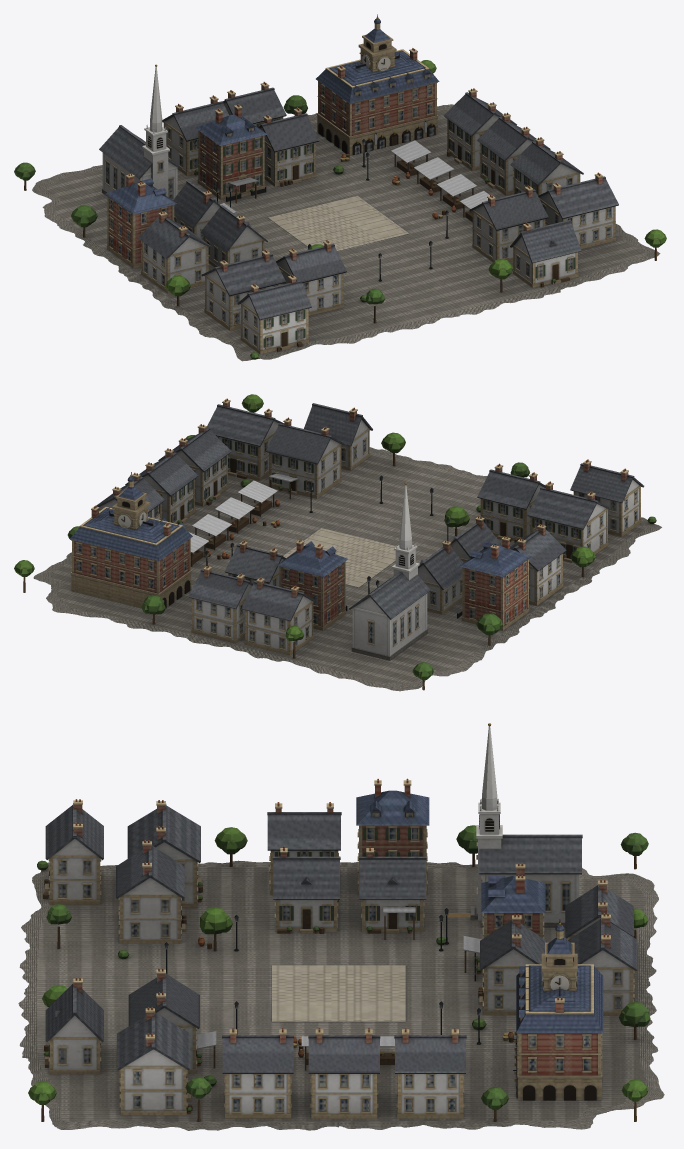
File: gunpowder-town-medium-a-colonies.glb
3 renders of one model, top to bottom at view 1: azimuth 30°, elevation 25°; view 2: azimuth 150°, elevation 25°; view 3: azimuth 270°, elevation 25°, orthographic. The views are drawn at different scales.
Parts seen in each view (by area): view 1: LOD0; view 2: LOD0; view 3: LOD0.
Boxes of the visible parts, x1=… form: LOD0: x1=14, y1=14, x2=666, y2=361; LOD0: x1=14, y1=394, x2=661, y2=691; LOD0: x1=18, y1=723, x2=664, y2=1130.
Size of what is drawn, in the model's own units: 6.03 by 2 by 6.09.
Materials: 3 (3 with a texture image).
